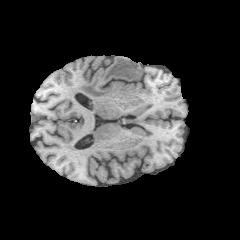glioma: (73, 56, 144, 98)
